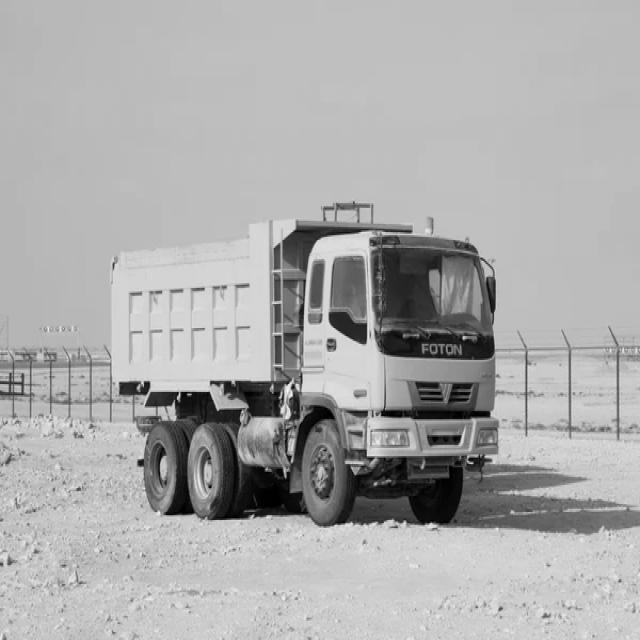Truck: (110, 203, 500, 525)
